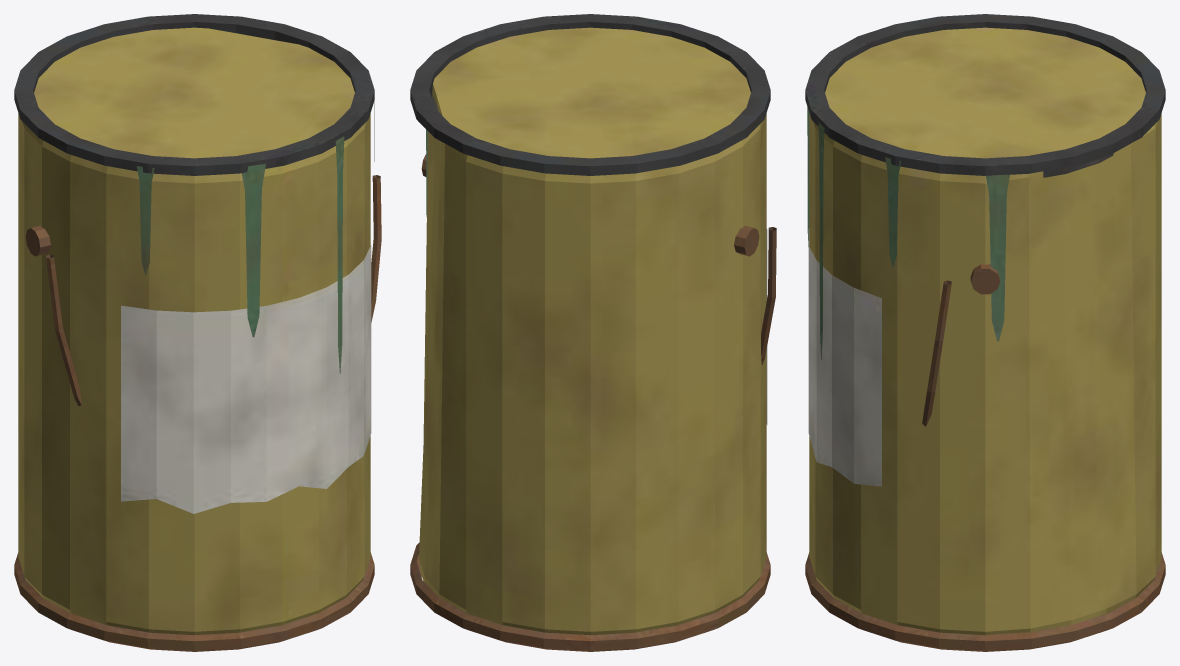
File: D21_paint_cans_v3.glb
The picture shows the model from 3 angles, left to right: view 1: azimuth 30°, elevation 25°; view 2: azimuth 150°, elevation 25°; view 3: azimuth 270°, elevation 25°; orthographic projection.
Visible parts, largest first — view 1: Dented tin body; view 2: Dented tin body; view 3: Dented tin body.
Boxes of the visible parts, left/top/right/bottom form: Dented tin body: left=14, top=14, right=381, bottom=651; Dented tin body: left=410, top=14, right=776, bottom=651; Dented tin body: left=805, top=14, right=1165, bottom=651.
Bounding box in the file's own units: 0.2144 × 0.3 × 0.2.
Materials: 6 (6 with a texture image).
